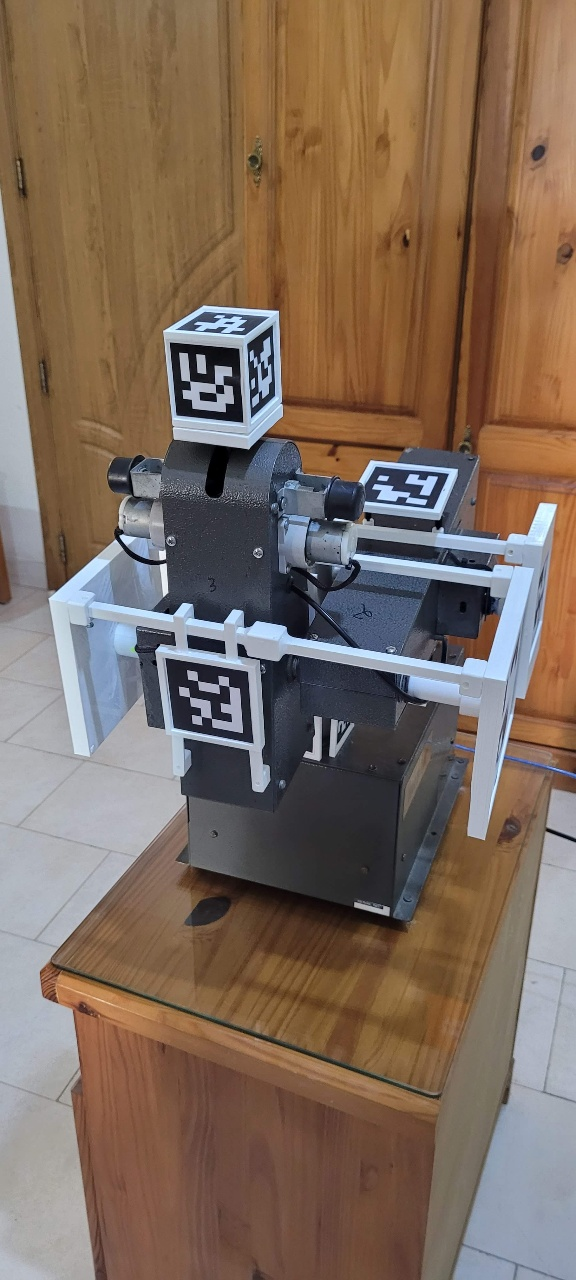Robot: (39, 157, 557, 1087)
